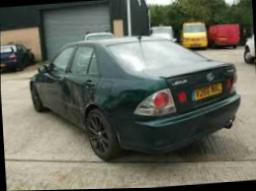Door: (54, 72, 101, 131)
